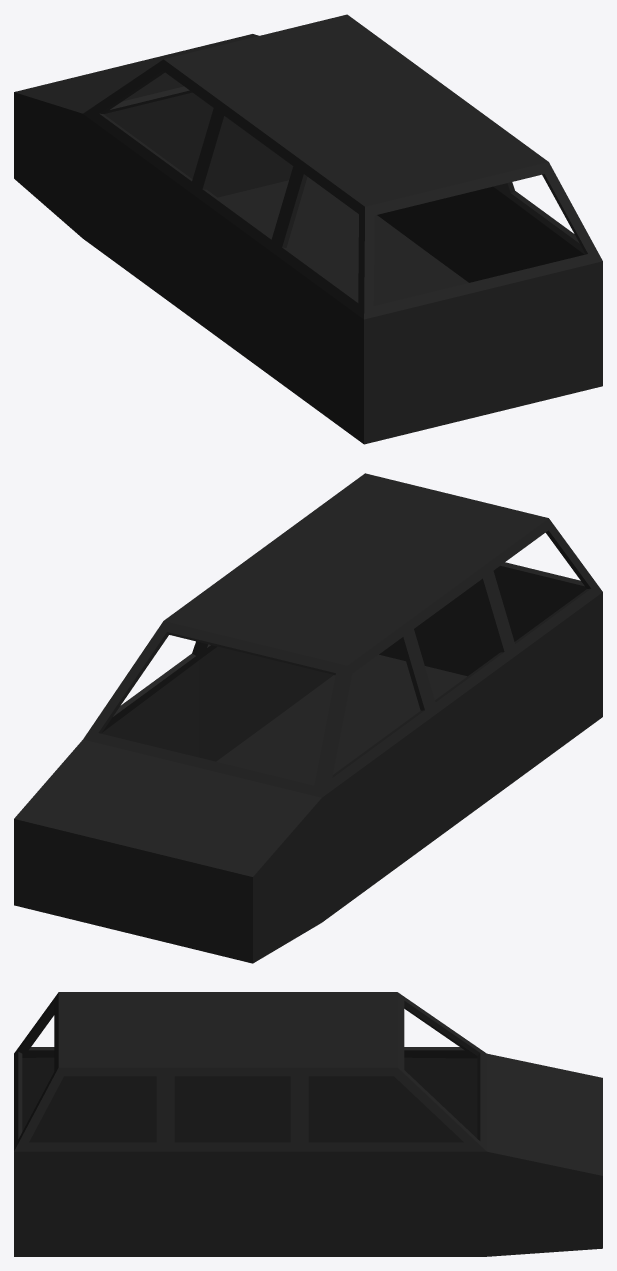
Rendered from minivan.glb.
The picture shows the model from 3 angles, top to bottom: view 1: azimuth 30°, elevation 25°; view 2: azimuth 150°, elevation 25°; view 3: azimuth 270°, elevation 25°; orthographic projection. The views are drawn at different scales.
Visible parts, largest first — view 1: vehicles/minivan; view 2: vehicles/minivan; view 3: vehicles/minivan.
Part boxes in pixels (x1,y1,x2,y2): vehicles/minivan: [14, 14, 602, 444]; vehicles/minivan: [14, 473, 602, 963]; vehicles/minivan: [14, 992, 602, 1256].
Bounding box in the file's own units: 1.62 × 1.38 × 4.12.
2 materials, 2 textured.
